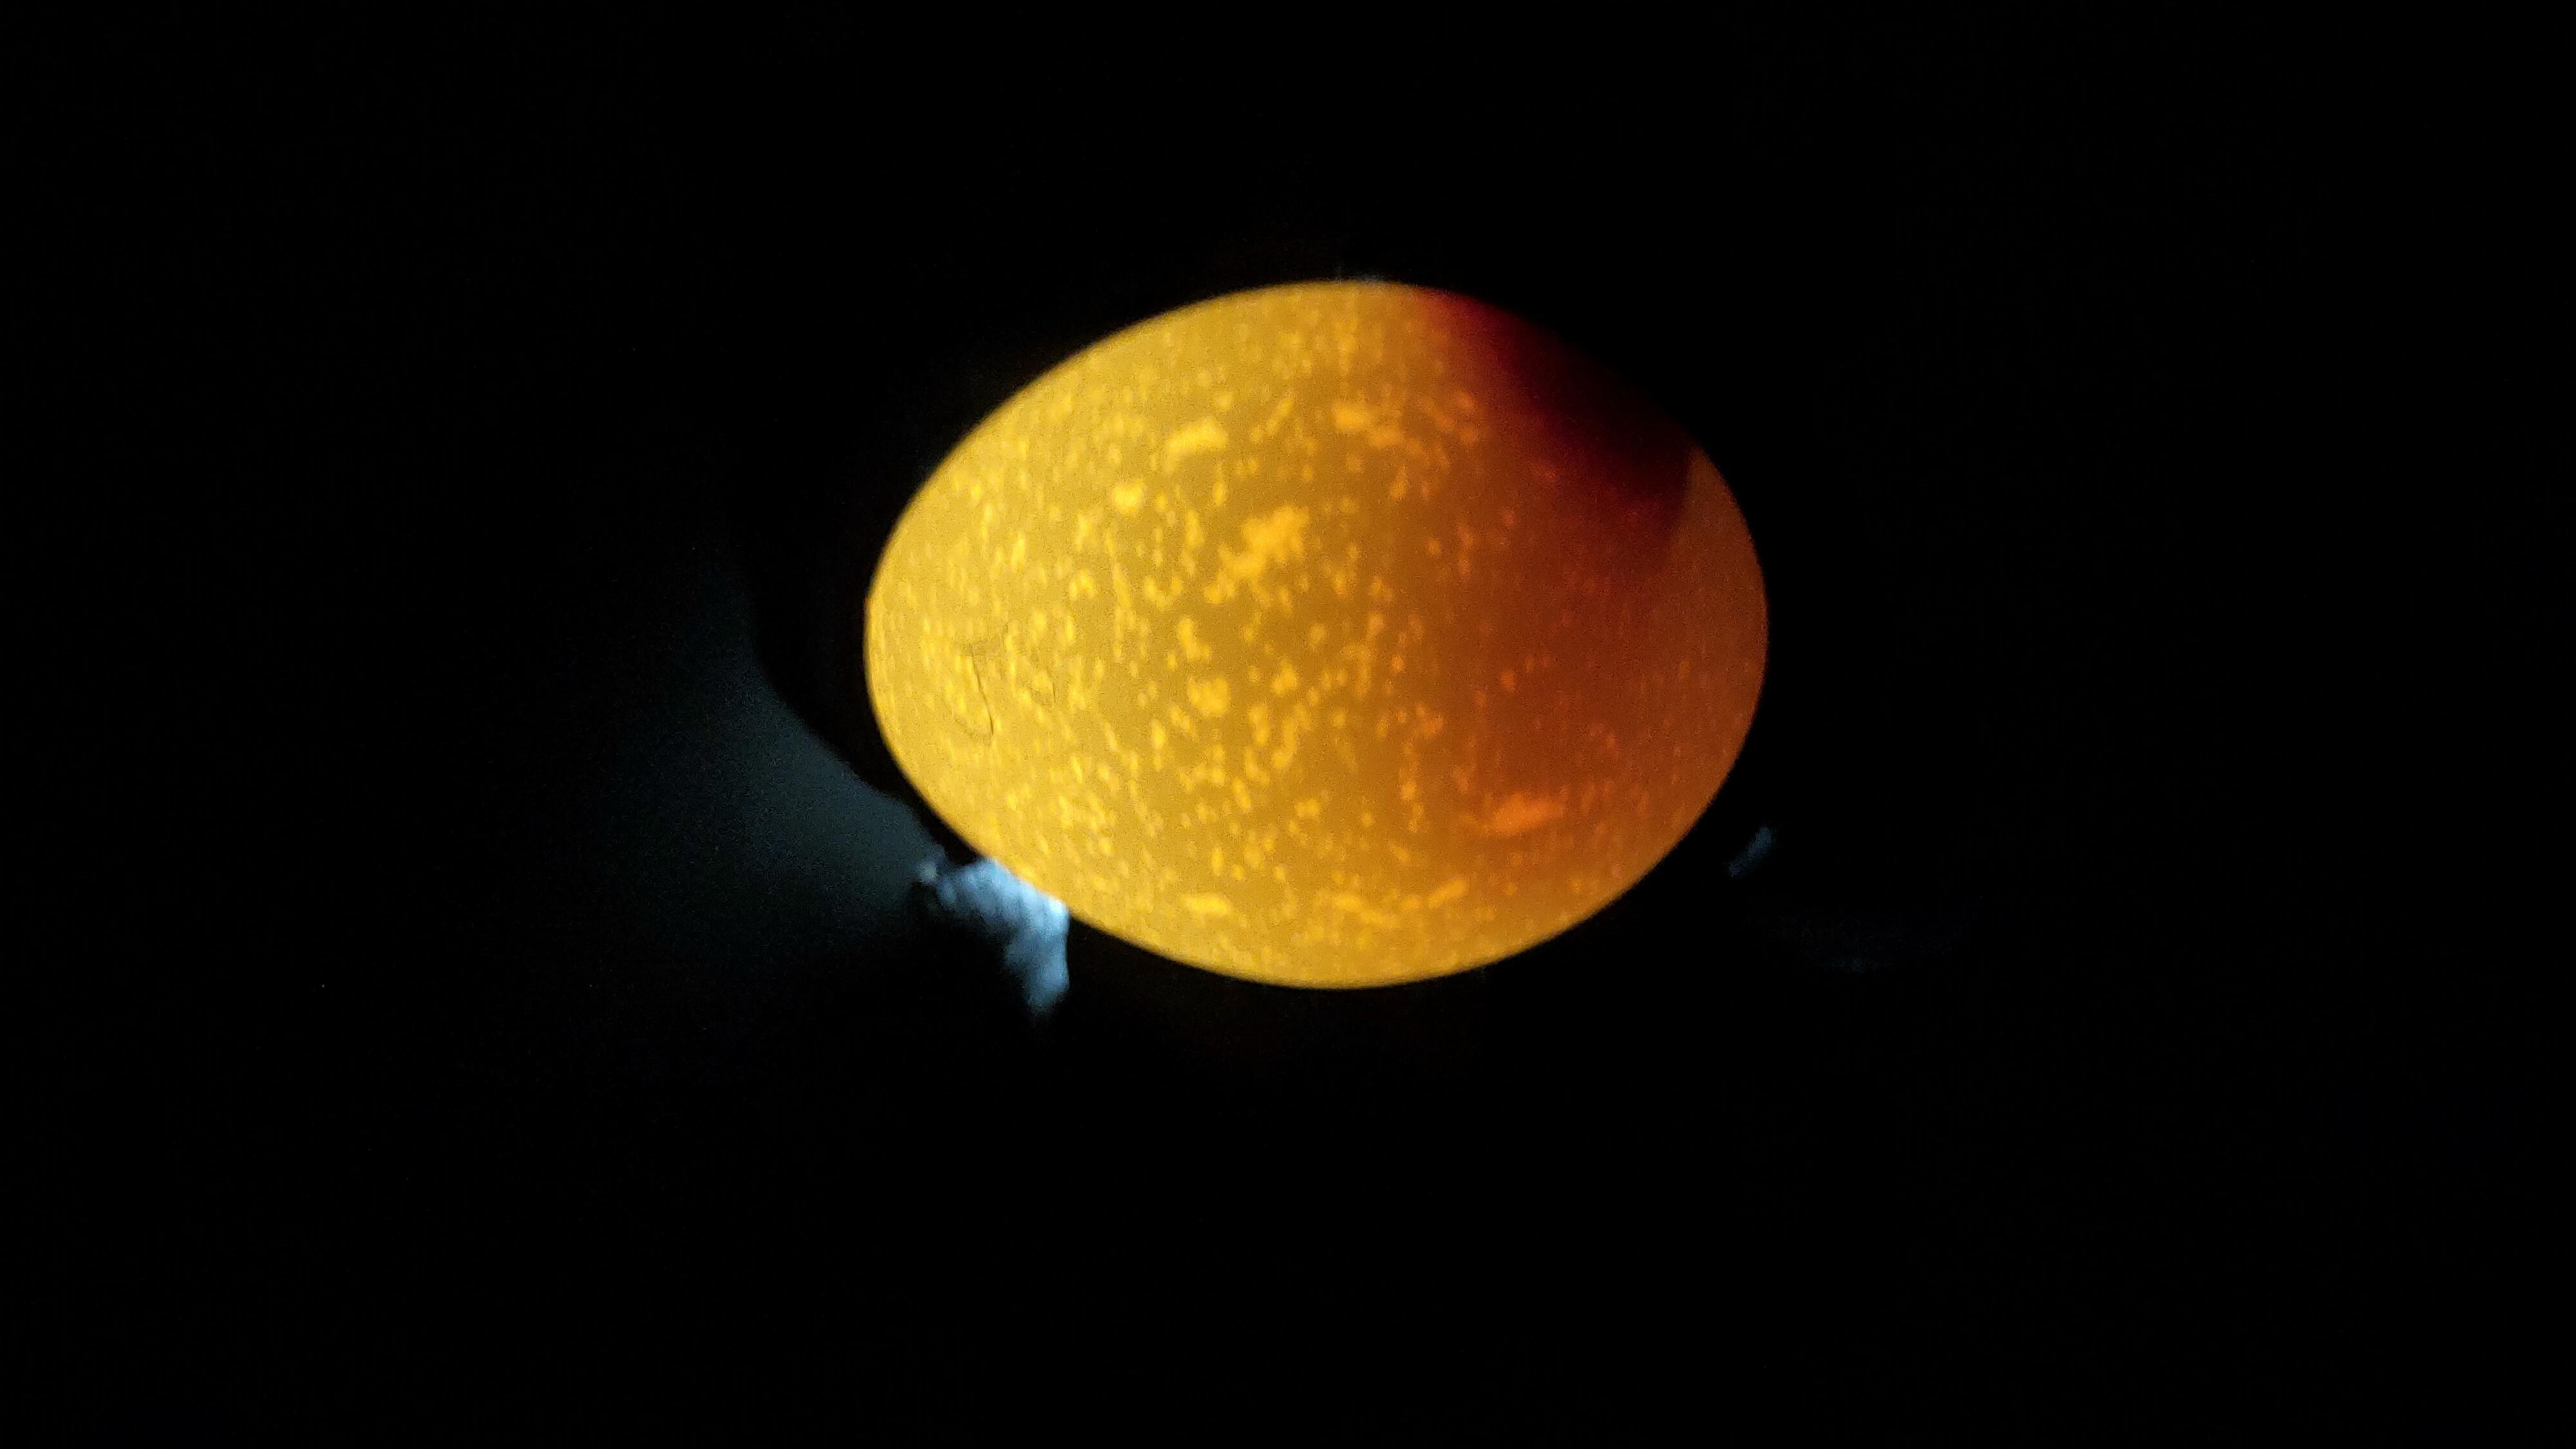AA - Premium: (745, 467, 2176, 1008)
